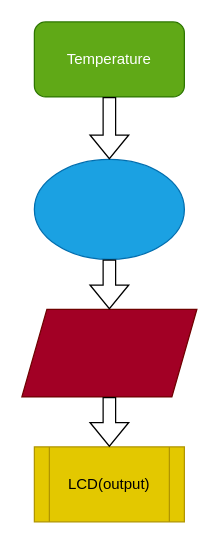
This 219x544 diagram has some shape labels left out. Each missing label, with the centre of its shape:
Passenger check: (108,208)
Temperature change: (109,352)
